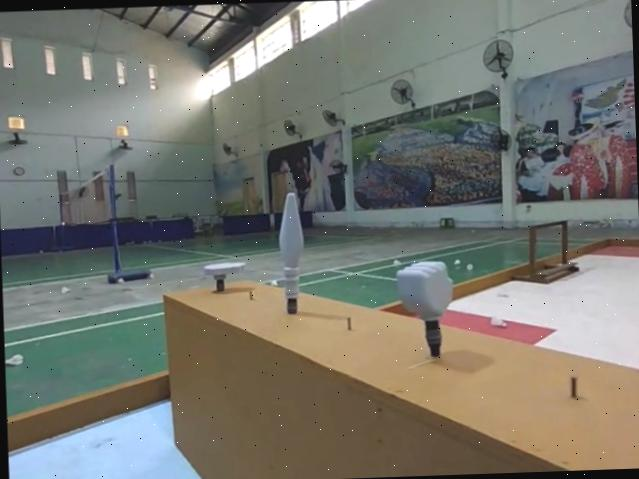Fist: (394, 259, 456, 363)
Hand: (200, 258, 244, 292)
Sph: (274, 193, 307, 317)
